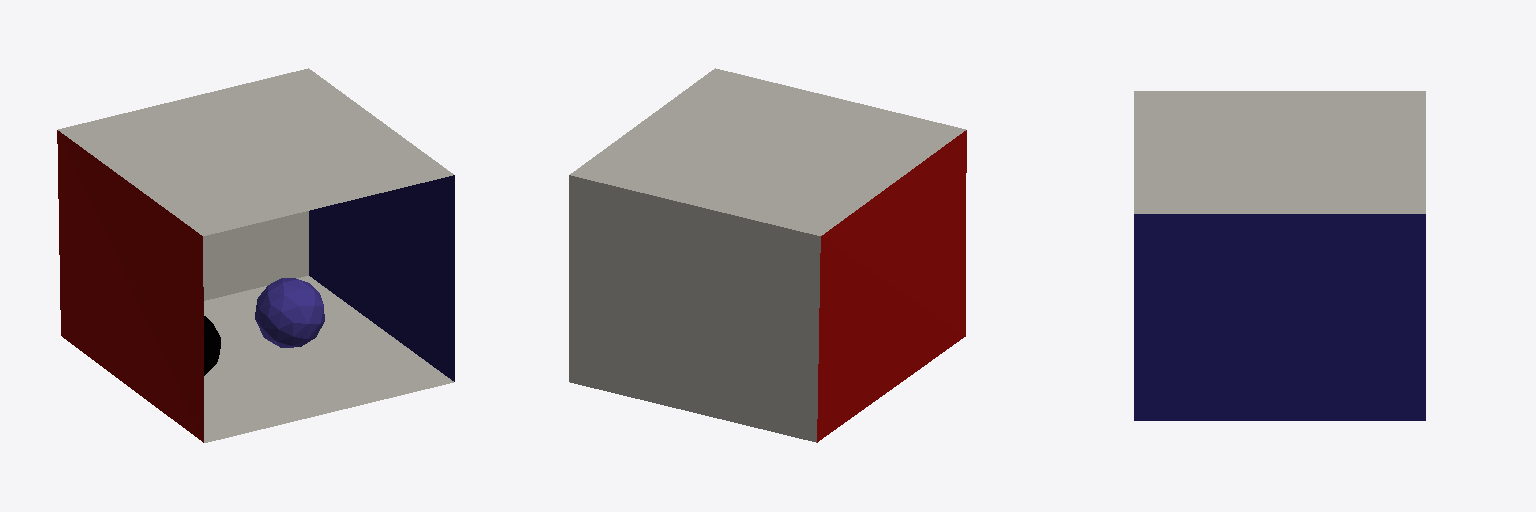
File: CornellBox-Sphere-558.obj
3 renders of one model, left to right at view 1: azimuth 30°, elevation 25°; view 2: azimuth 150°, elevation 25°; view 3: azimuth 270°, elevation 25°, orthographic.
Visible parts, largest first — view 1: ceiling, leftWall, floor, rightWall, backWall, leftSphere, rightSphere; view 2: backWall, ceiling, leftWall; view 3: rightWall, ceiling.
Part boxes in pixels (left/top/right/bottom): ceiling: left=58, top=68, right=453, bottom=235; leftWall: left=57, top=130, right=203, bottom=442; floor: left=204, top=276, right=453, bottom=442; rightWall: left=309, top=175, right=454, bottom=381; backWall: left=203, top=211, right=308, bottom=300; leftSphere: left=255, top=278, right=324, bottom=347; rightSphere: left=204, top=316, right=220, bottom=375; backWall: left=569, top=175, right=820, bottom=442; ceiling: left=570, top=68, right=965, bottom=235; leftWall: left=817, top=130, right=966, bottom=442; rightWall: left=1134, top=214, right=1425, bottom=420; ceiling: left=1134, top=91, right=1425, bottom=213.
Size of the model in its own units: 2.02 by 1.59 by 2.03.